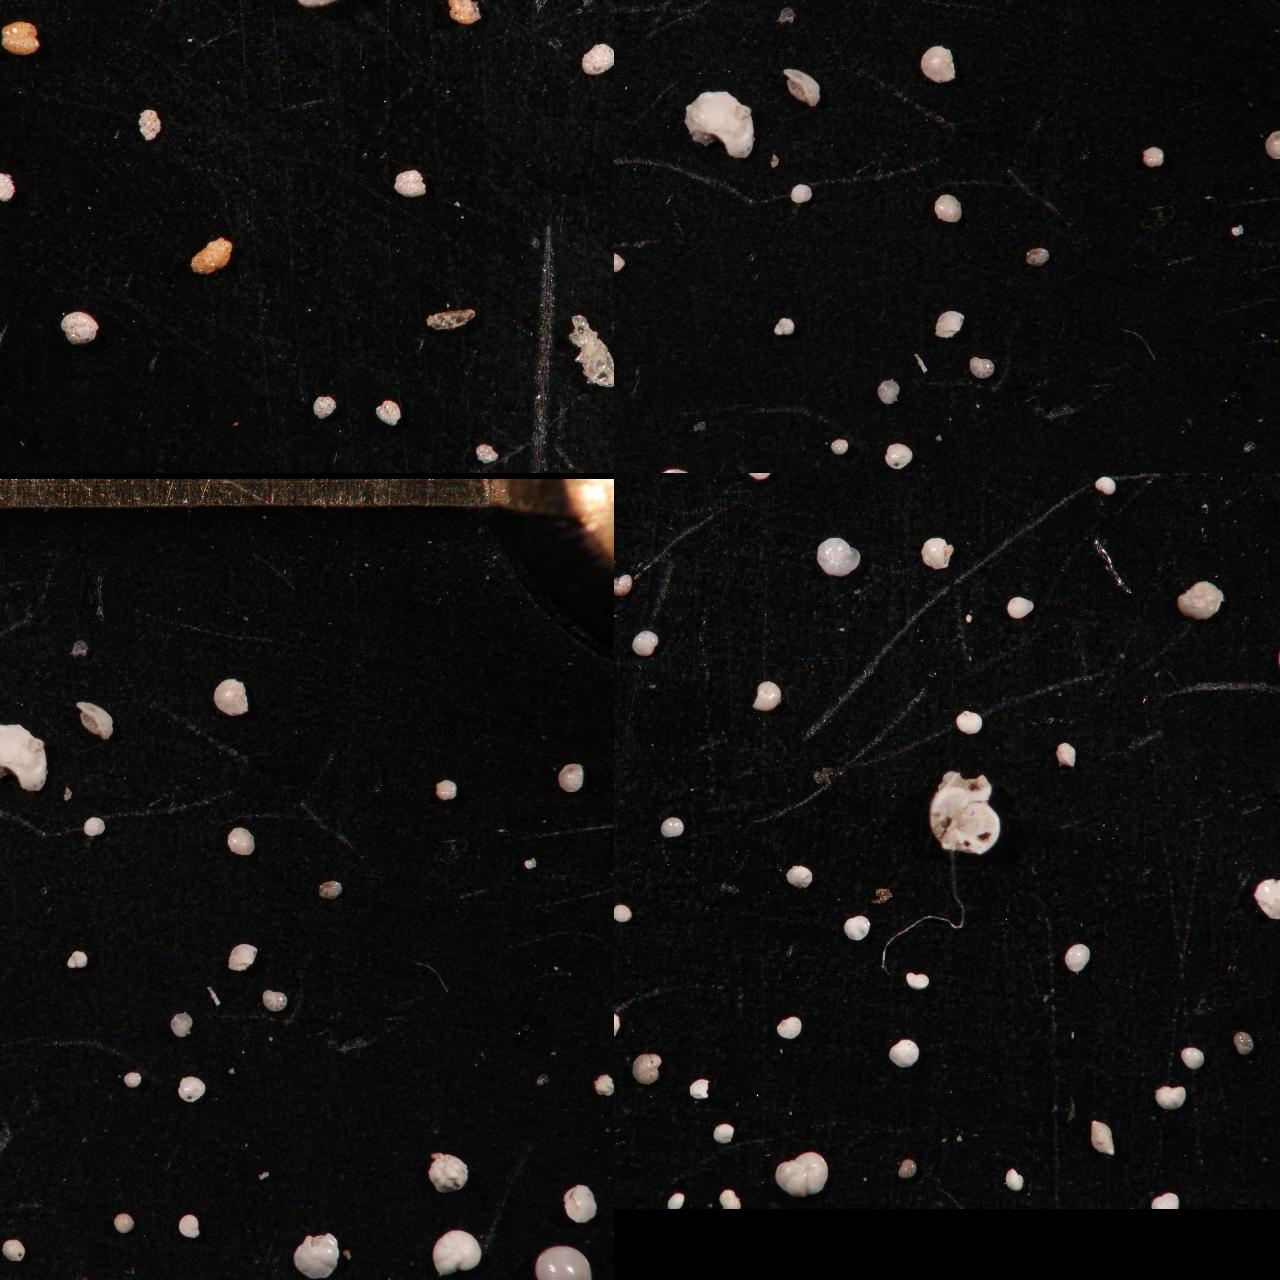agglutinated: (279, 0, 369, 52), (566, 311, 614, 387), (185, 0, 245, 30), (190, 236, 232, 274), (59, 309, 101, 342), (0, 20, 40, 53), (422, 306, 477, 327), (580, 43, 614, 73), (393, 168, 428, 196), (445, 0, 482, 23), (374, 399, 402, 425), (137, 108, 161, 138), (0, 302, 20, 333), (474, 442, 501, 463), (313, 396, 335, 418), (0, 171, 18, 198), (84, 0, 111, 13)
calcareous: (930, 769, 1001, 853), (614, 761, 668, 855), (685, 89, 756, 157), (0, 721, 49, 790), (772, 1150, 829, 1197), (614, 35, 648, 113), (0, 668, 34, 745), (433, 1227, 482, 1274), (292, 1232, 340, 1279), (533, 1242, 593, 1280), (1173, 578, 1226, 620), (427, 1149, 470, 1193), (816, 535, 860, 576), (782, 66, 822, 107), (75, 699, 115, 740), (561, 1184, 599, 1223), (919, 45, 956, 82), (212, 678, 250, 715), (614, 191, 640, 241), (0, 824, 26, 874), (1252, 874, 1280, 919), (1088, 1116, 1116, 1155), (631, 1051, 663, 1084), (920, 537, 954, 568), (886, 1037, 922, 1067), (0, 1099, 22, 1146), (614, 183, 639, 223), (0, 816, 25, 856), (750, 679, 782, 709), (933, 308, 965, 338), (226, 941, 258, 971), (225, 825, 257, 855), (933, 192, 964, 222), (556, 761, 584, 791), (1063, 942, 1091, 972), (883, 443, 913, 470), (176, 1076, 206, 1103), (631, 628, 661, 655), (843, 912, 871, 940), (1053, 740, 1080, 768), (1153, 1084, 1185, 1108), (876, 377, 903, 404), (784, 864, 813, 888), (0, 1245, 20, 1280), (169, 1010, 195, 1037), (955, 710, 985, 734), (1006, 595, 1036, 618), (614, 719, 631, 760), (0, 1228, 18, 1266), (0, 1237, 26, 1261), (1232, 1029, 1257, 1055), (0, 1116, 18, 1151), (614, 879, 633, 912), (614, 958, 633, 990), (969, 354, 995, 377), (177, 1212, 200, 1238), (263, 987, 288, 1010), (776, 1014, 802, 1037), (1180, 1046, 1206, 1069), (0, 1009, 16, 1046), (904, 968, 932, 989), (82, 813, 108, 836), (1262, 127, 1280, 158), (614, 376, 629, 413), (790, 181, 815, 203), (592, 1071, 614, 1096), (896, 1156, 920, 1178), (1023, 246, 1050, 266), (316, 879, 343, 899), (1150, 1191, 1185, 1206), (113, 1211, 136, 1233), (1141, 144, 1165, 165), (434, 777, 458, 798), (614, 986, 629, 1020), (742, 474, 776, 489), (659, 816, 685, 836), (1005, 1166, 1026, 1190), (687, 1078, 712, 1098), (0, 1198, 16, 1227), (772, 315, 796, 335), (66, 948, 89, 968), (717, 1187, 741, 1207), (614, 877, 629, 907), (1092, 475, 1117, 493), (614, 797, 628, 829), (712, 1123, 736, 1141), (614, 404, 628, 434), (0, 1037, 14, 1067), (614, 1166, 629, 1193), (614, 384, 627, 415), (614, 264, 629, 290), (0, 1160, 15, 1186), (0, 1017, 13, 1048), (0, 897, 15, 922), (0, 1206, 15, 1232), (614, 574, 633, 594), (0, 561, 14, 587), (0, 1155, 14, 1180), (0, 1233, 13, 1261), (614, 903, 633, 921), (614, 1145, 627, 1171), (614, 1111, 628, 1135), (614, 720, 627, 744), (614, 946, 627, 971), (614, 1005, 626, 1032), (614, 1010, 625, 1040), (666, 1191, 685, 1207), (830, 438, 850, 454), (123, 1071, 143, 1087), (614, 651, 627, 674), (614, 612, 627, 635), (0, 545, 12, 570), (614, 644, 626, 668), (0, 1151, 12, 1175), (614, 893, 626, 917), (614, 851, 626, 874), (0, 1230, 11, 1254), (614, 250, 626, 271), (614, 154, 627, 172), (0, 787, 13, 805), (614, 342, 625, 365), (614, 346, 625, 368), (0, 975, 11, 998), (0, 979, 11, 1001), (614, 379, 626, 399), (0, 1012, 12, 1032), (0, 883, 11, 904), (614, 1184, 624, 1207), (1230, 220, 1244, 236), (523, 853, 537, 869), (614, 0, 632, 12), (614, 1191, 626, 1206), (614, 0, 628, 12), (614, 474, 628, 484)
